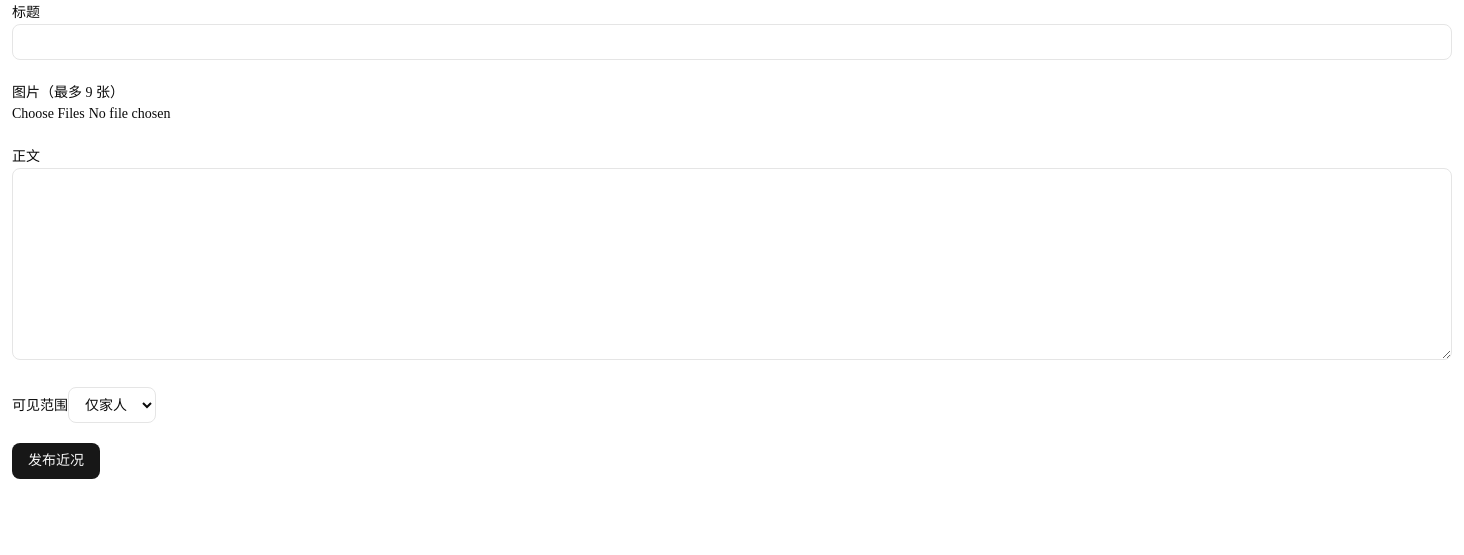
Test case: PostForm › shows local required field errors without sending a request
The image size is (1464, 555).
Step 1. Click the button "发布近况" → [56, 461], box [12,443,100,479]
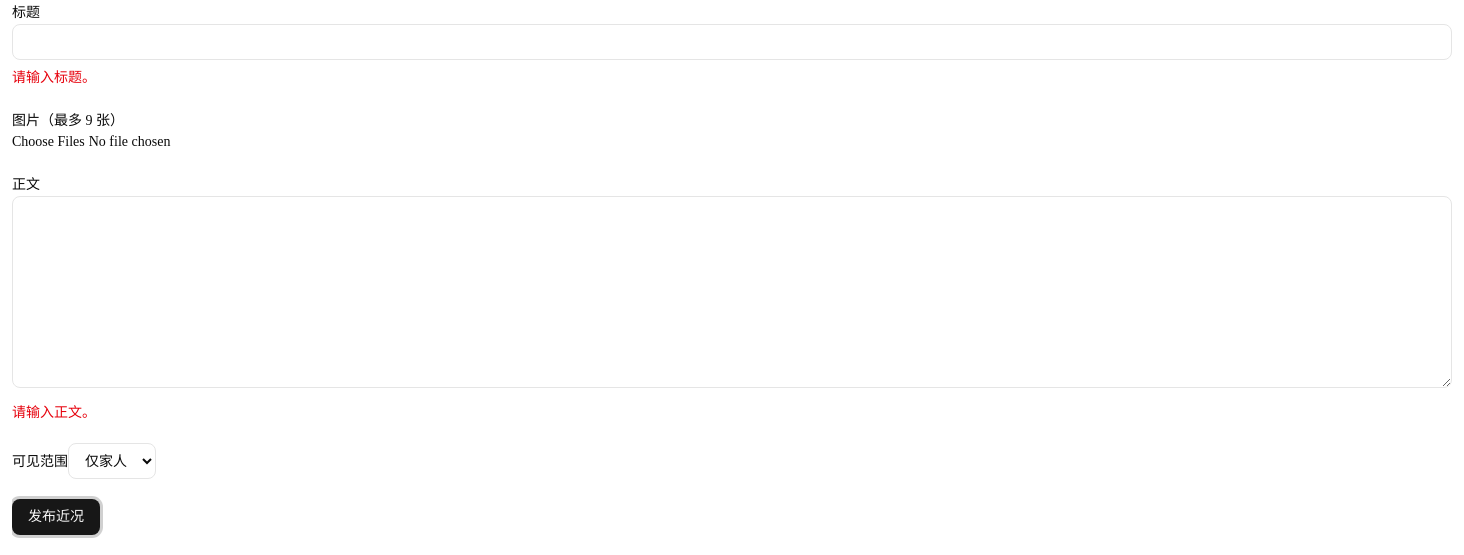
Expected: the text "请输入标题。" is shown, [12,70,96,85]
Expected: the text "请输入正文。" is shown, [12,405,96,420]
